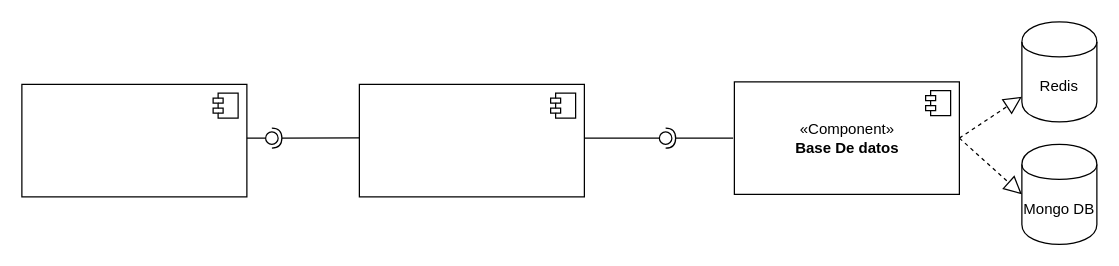
Some shapes in this 1119 by 266 pixel diagram are drawn without their labels. The shapes that lost their labels are listed below. From the top down, each one's box as (x1, y1, x2, y2) in pixels, then its label:
(21, 83, 247, 197): «Component» Client Web App
(358, 83, 584, 197): «Component» Node js (Backend)
